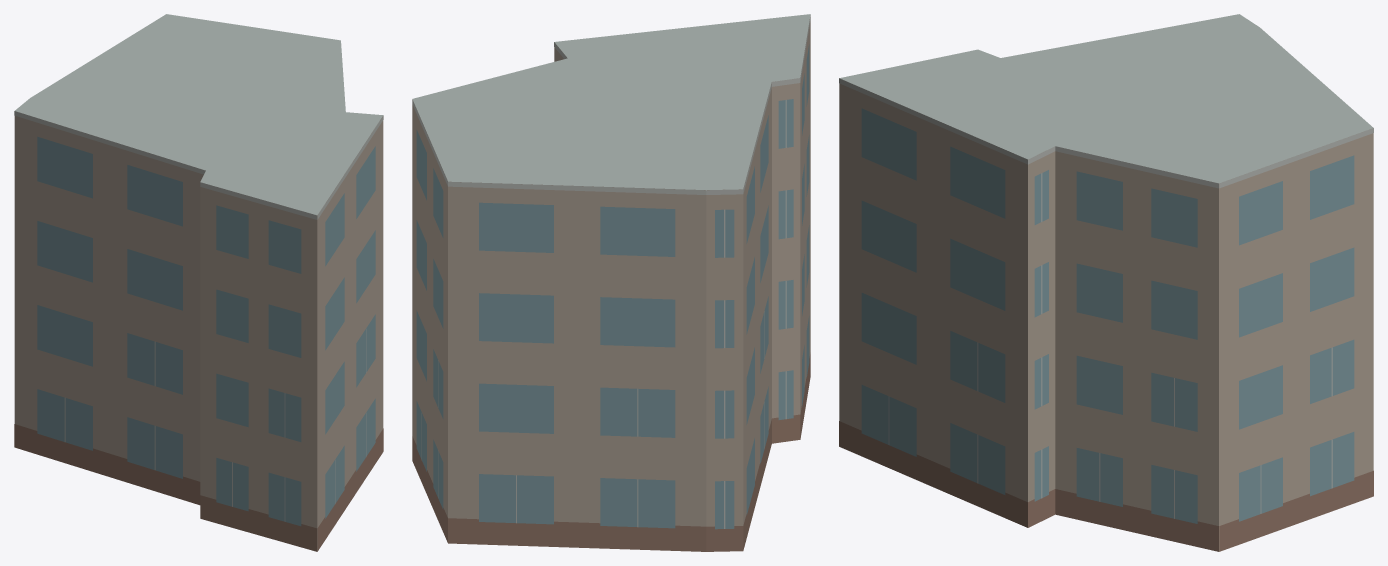
Rendered from survey-upis-32495168.glb.
3 renders of one model, left to right at view 1: azimuth 30°, elevation 25°; view 2: azimuth 150°, elevation 25°; view 3: azimuth 270°, elevation 25°, orthographic. The views are drawn at different scales.
Parts seen in each view (by area): view 1: survey-upis-32495168.tmp; view 2: survey-upis-32495168.tmp; view 3: survey-upis-32495168.tmp.
Part boxes in pixels (left/top/right/bottom): survey-upis-32495168.tmp: left=14, top=14, right=383, bottom=551; survey-upis-32495168.tmp: left=412, top=14, right=810, bottom=551; survey-upis-32495168.tmp: left=839, top=14, right=1373, bottom=551.
Bounding box in the file's own units: 17.49 × 17.73 × 23.32.
